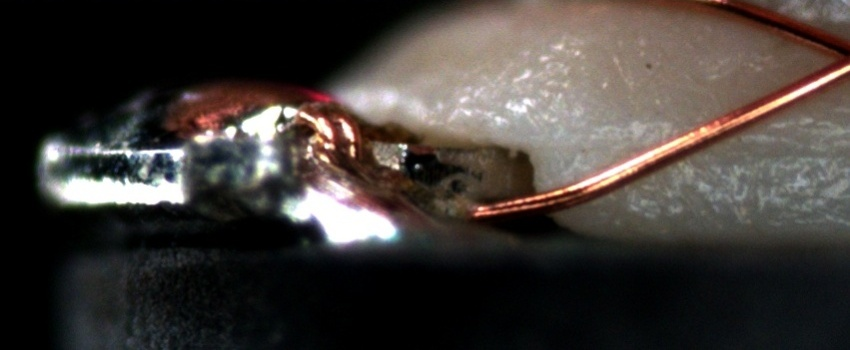CL: (805, 26, 850, 89)
DL: (620, 110, 849, 173)
TE: (289, 99, 364, 161)
